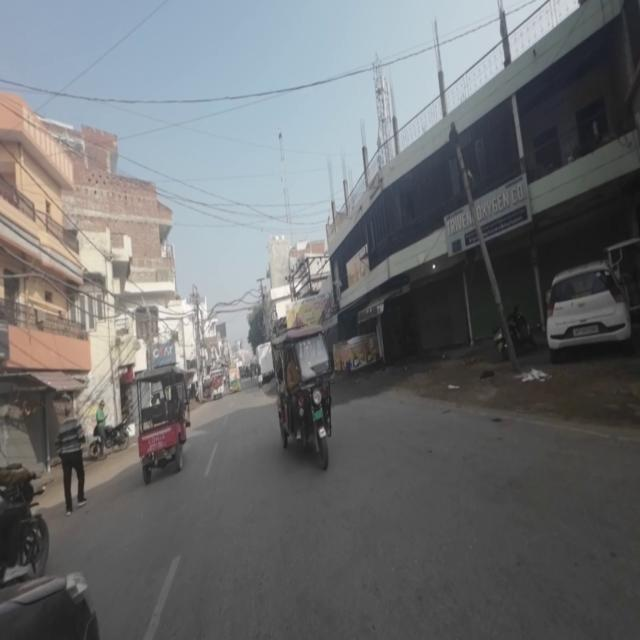Garbage: (514, 361, 550, 385), (442, 380, 465, 392)
